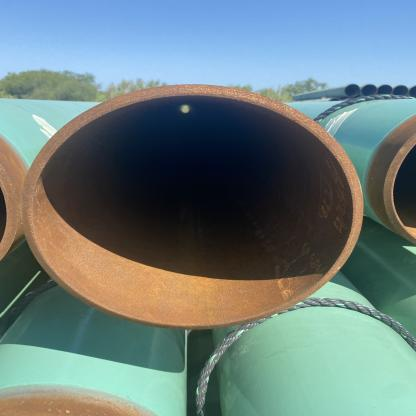clean: (162, 62, 207, 110)
